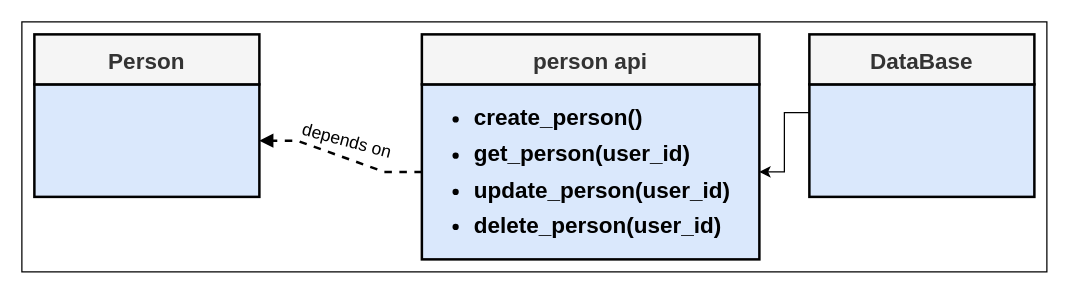
This 1069x294 diagram has some shape labels left out. The shapes that lost their labels are listed below. From the top down, each one's centre as x and y in pixels, then its label:
(x=146, y=140): user_id: int name: string
(x=921, y=140): persons
